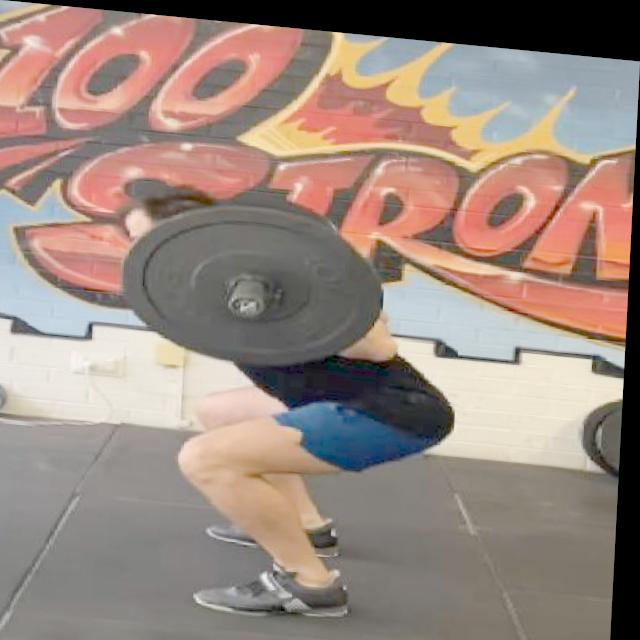barbell: (120, 190, 394, 377)
